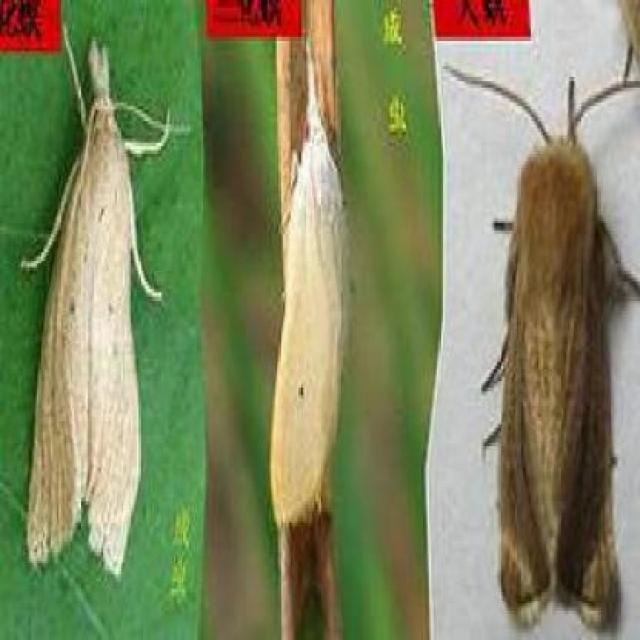stem-borer: (441, 44, 640, 633), (13, 22, 192, 583), (269, 42, 349, 529)
